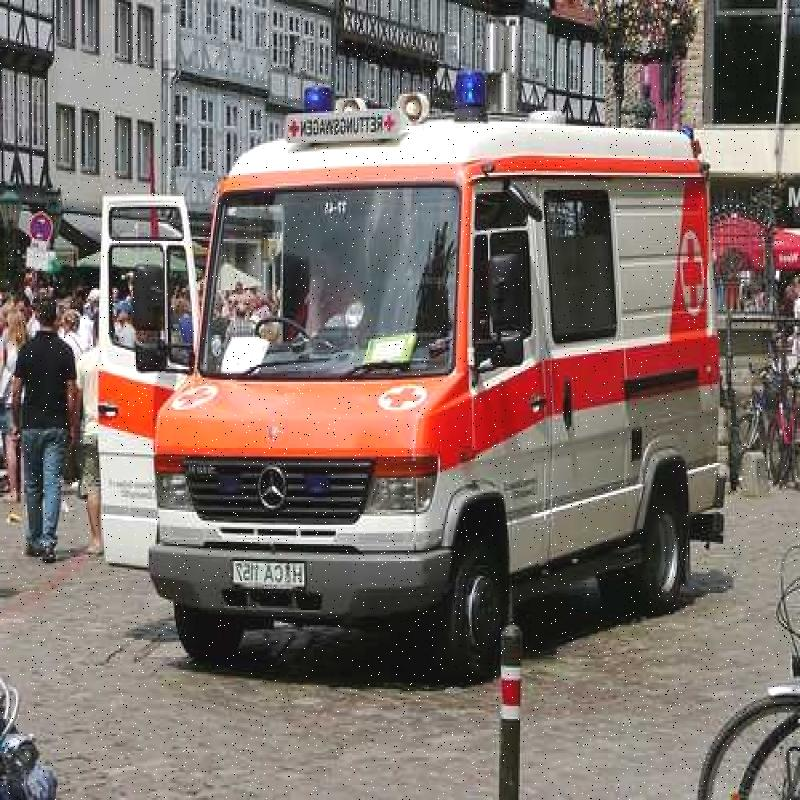AmbulanceSiren: (444, 54, 495, 134)
